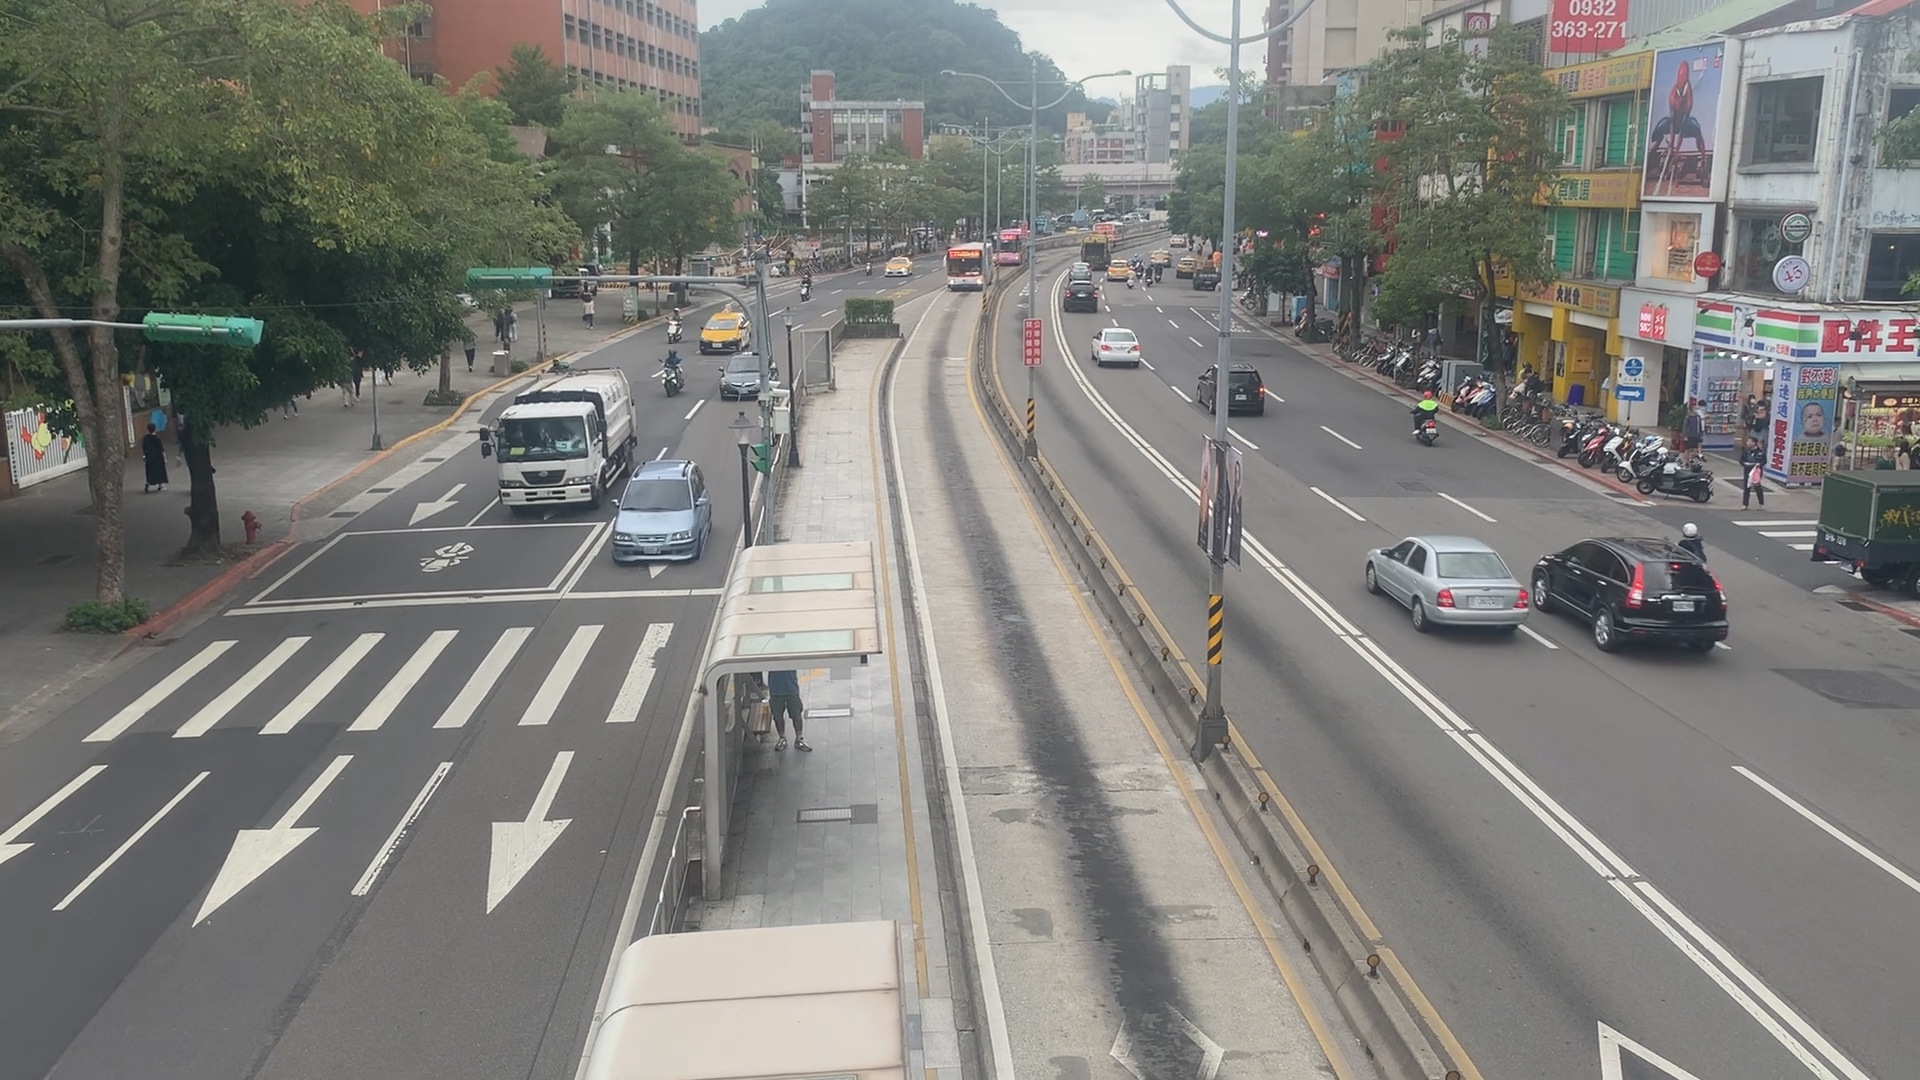Bus: (491, 371, 637, 513), (934, 239, 994, 293), (985, 222, 1030, 273)
Business Passenger Car: (698, 309, 752, 353), (878, 255, 916, 282), (1105, 256, 1135, 285)
Motorcycle: (1407, 386, 1445, 443), (654, 343, 684, 396), (794, 272, 818, 305), (662, 305, 684, 338)
Private Passenger Car: (1538, 542, 1724, 655), (1369, 535, 1522, 632), (616, 456, 702, 556), (1197, 365, 1262, 414), (723, 343, 771, 398), (1087, 324, 1139, 367), (1056, 284, 1106, 316), (1067, 262, 1091, 278)
